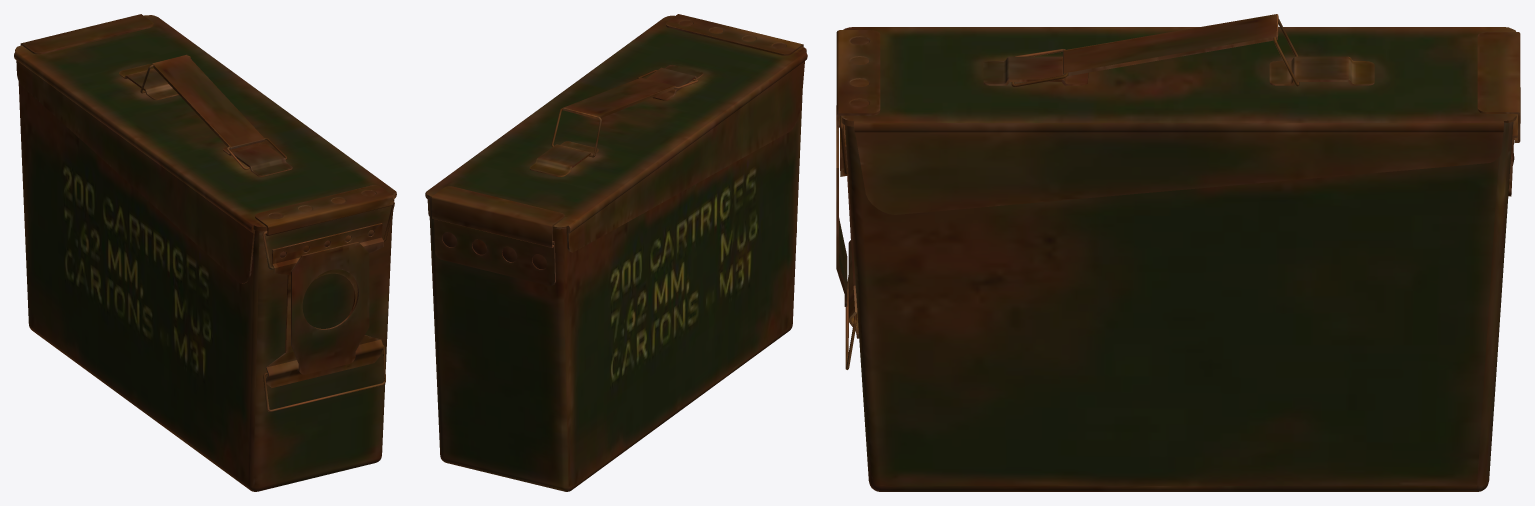
Rendered from ammo_box.glb.
3 renders of one model, left to right at view 1: azimuth 30°, elevation 25°; view 2: azimuth 150°, elevation 25°; view 3: azimuth 270°, elevation 25°, orthographic. The views are drawn at different scales.
Parts seen in each view (by area): view 1: ammo_box_handle_ring_b; view 2: ammo_box_handle_ring_b; view 3: ammo_box_handle_ring_b.
Boxes of the visible parts, x1,y1,x2,y2 form: ammo_box_handle_ring_b: (14, 14, 396, 491); ammo_box_handle_ring_b: (425, 14, 807, 491); ammo_box_handle_ring_b: (836, 14, 1520, 491).
Bounding box in the file's own units: 0.0866 × 0.1775 × 0.2579.
Materials: 1 (1 with a texture image).
